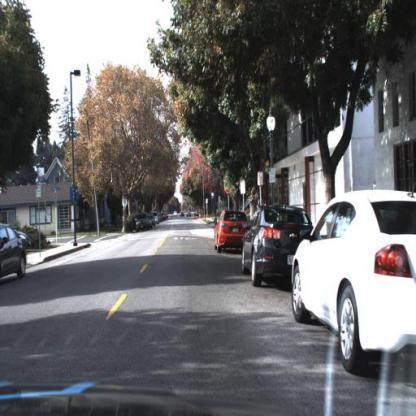car: (291, 193, 416, 376), (238, 202, 321, 289), (213, 206, 253, 259), (1, 221, 27, 287), (135, 213, 152, 234), (152, 215, 157, 228), (150, 216, 154, 231)
